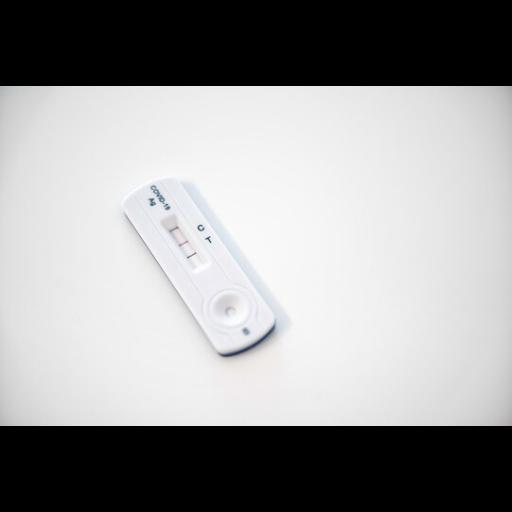Pos: (118, 167, 281, 359)
